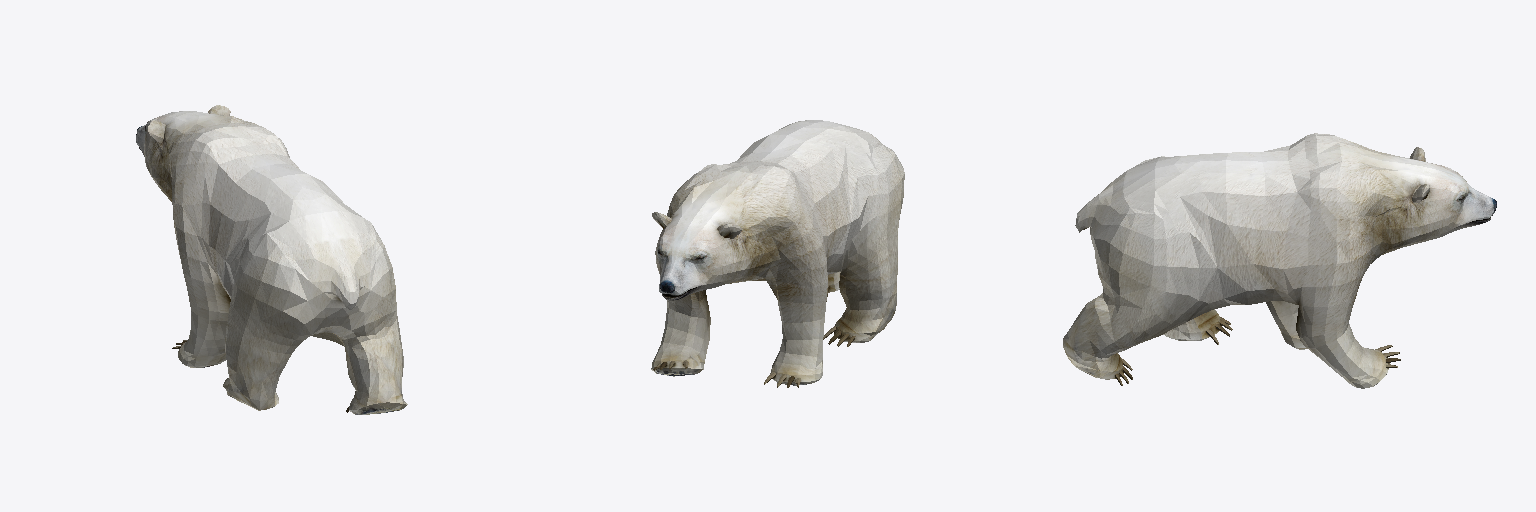
3 renders of one model, left to right at view 1: azimuth 30°, elevation 25°; view 2: azimuth 150°, elevation 25°; view 3: azimuth 270°, elevation 25°, orthographic.
Visible parts, largest first — view 1: BEAR_only_obj_clean_tex:BEAR_only_obj1; view 2: BEAR_only_obj_clean_tex:BEAR_only_obj1; view 3: BEAR_only_obj_clean_tex:BEAR_only_obj1.
Part boxes in pixels (x1,y1,x2,y2): BEAR_only_obj_clean_tex:BEAR_only_obj1: (136, 105, 407, 414); BEAR_only_obj_clean_tex:BEAR_only_obj1: (651, 120, 904, 387); BEAR_only_obj_clean_tex:BEAR_only_obj1: (1063, 133, 1496, 388).
Bounding box in the file's own units: 17.07 × 23.22 × 42.08.
1 materials, 1 textured.